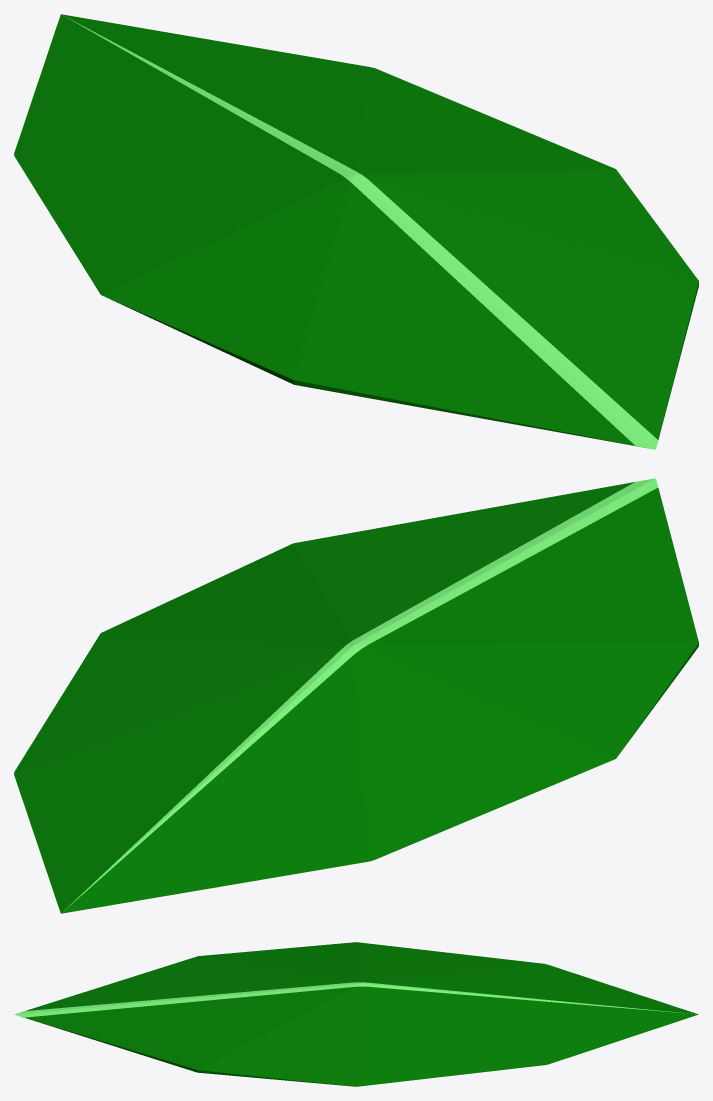
Rendered from Leaf.fbx.
3 views of the same model, one above another, from view 1: azimuth 30°, elevation 25°; view 2: azimuth 150°, elevation 25°; view 3: azimuth 270°, elevation 25° (orthographic). The views are drawn at different scales.
Parts seen in each view (by area): view 1: Cube; view 2: Cube; view 3: Cube.
Part boxes in pixels (box(x1,y1,x2,y2)): Cube: box(14, 14, 698, 449); Cube: box(14, 478, 698, 913); Cube: box(14, 942, 698, 1086).
Size of the model in its own units: 2 by 0.4 by 4.
